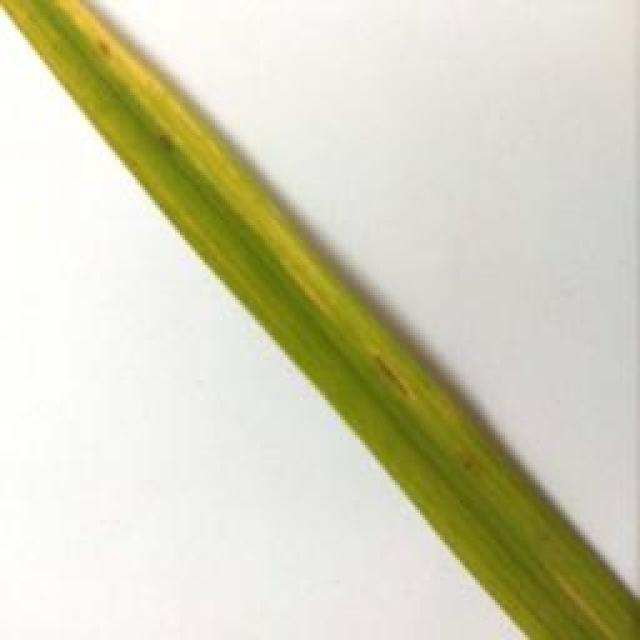Bacterial_Blight: (39, 0, 346, 323)
Brown_Spot: (365, 348, 431, 414), (79, 32, 115, 62), (153, 130, 186, 162), (455, 448, 473, 476)
